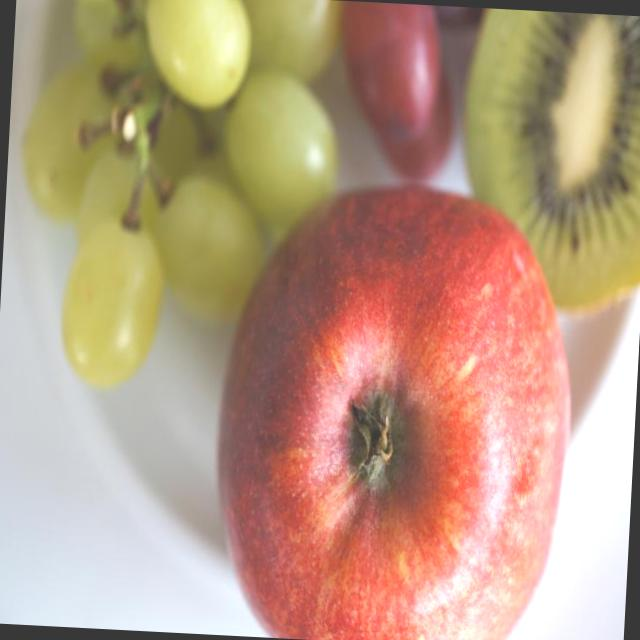Apple: (205, 172, 584, 640)
